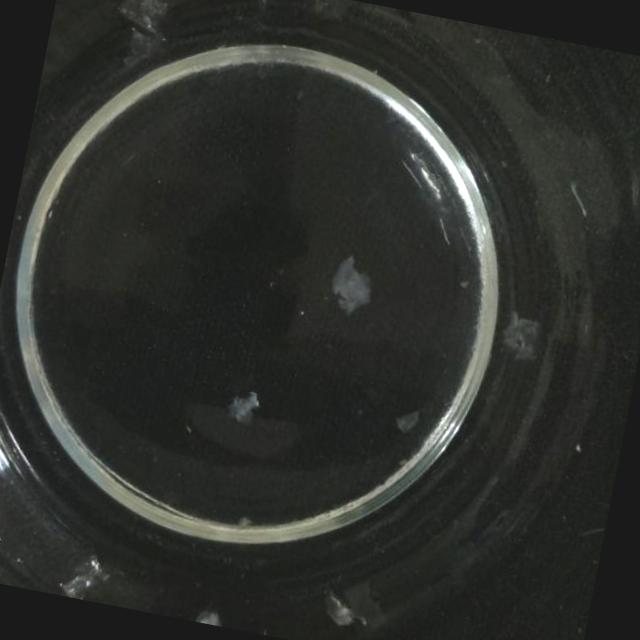fiber: (105, 0, 179, 77), (319, 574, 396, 640), (58, 548, 128, 607), (330, 250, 382, 317), (498, 313, 549, 370), (226, 386, 264, 426), (396, 401, 424, 437), (198, 607, 224, 625)
